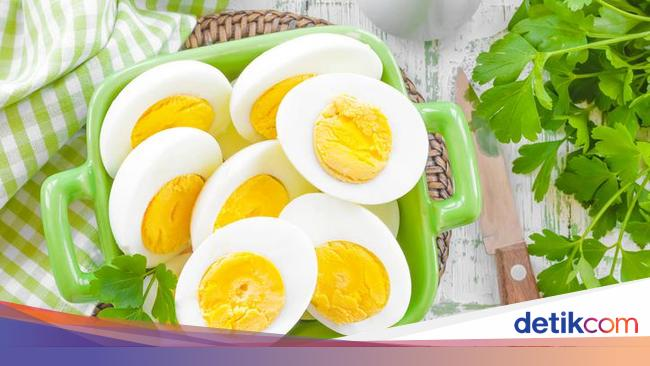Telur: (64, 130, 203, 289), (69, 59, 235, 157), (293, 94, 445, 182), (306, 213, 427, 322), (233, 29, 365, 126), (193, 217, 301, 334), (201, 138, 300, 239)
